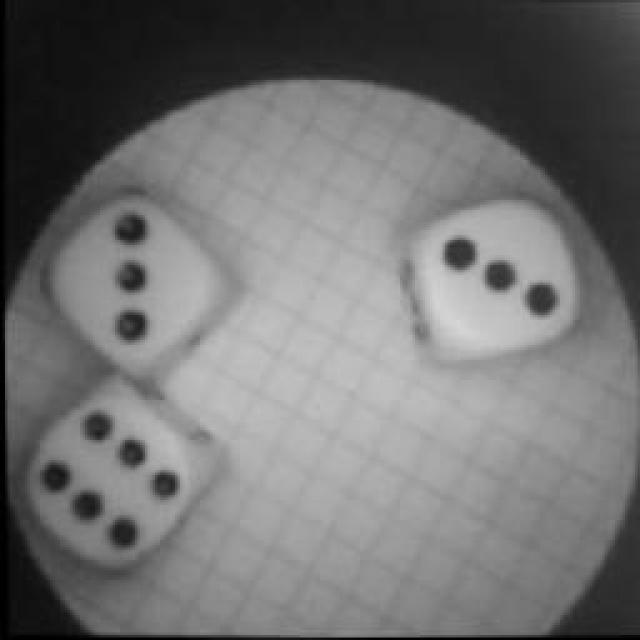dice_3: (38, 181, 230, 374), (395, 182, 593, 366)
dice_6: (8, 374, 210, 581)
